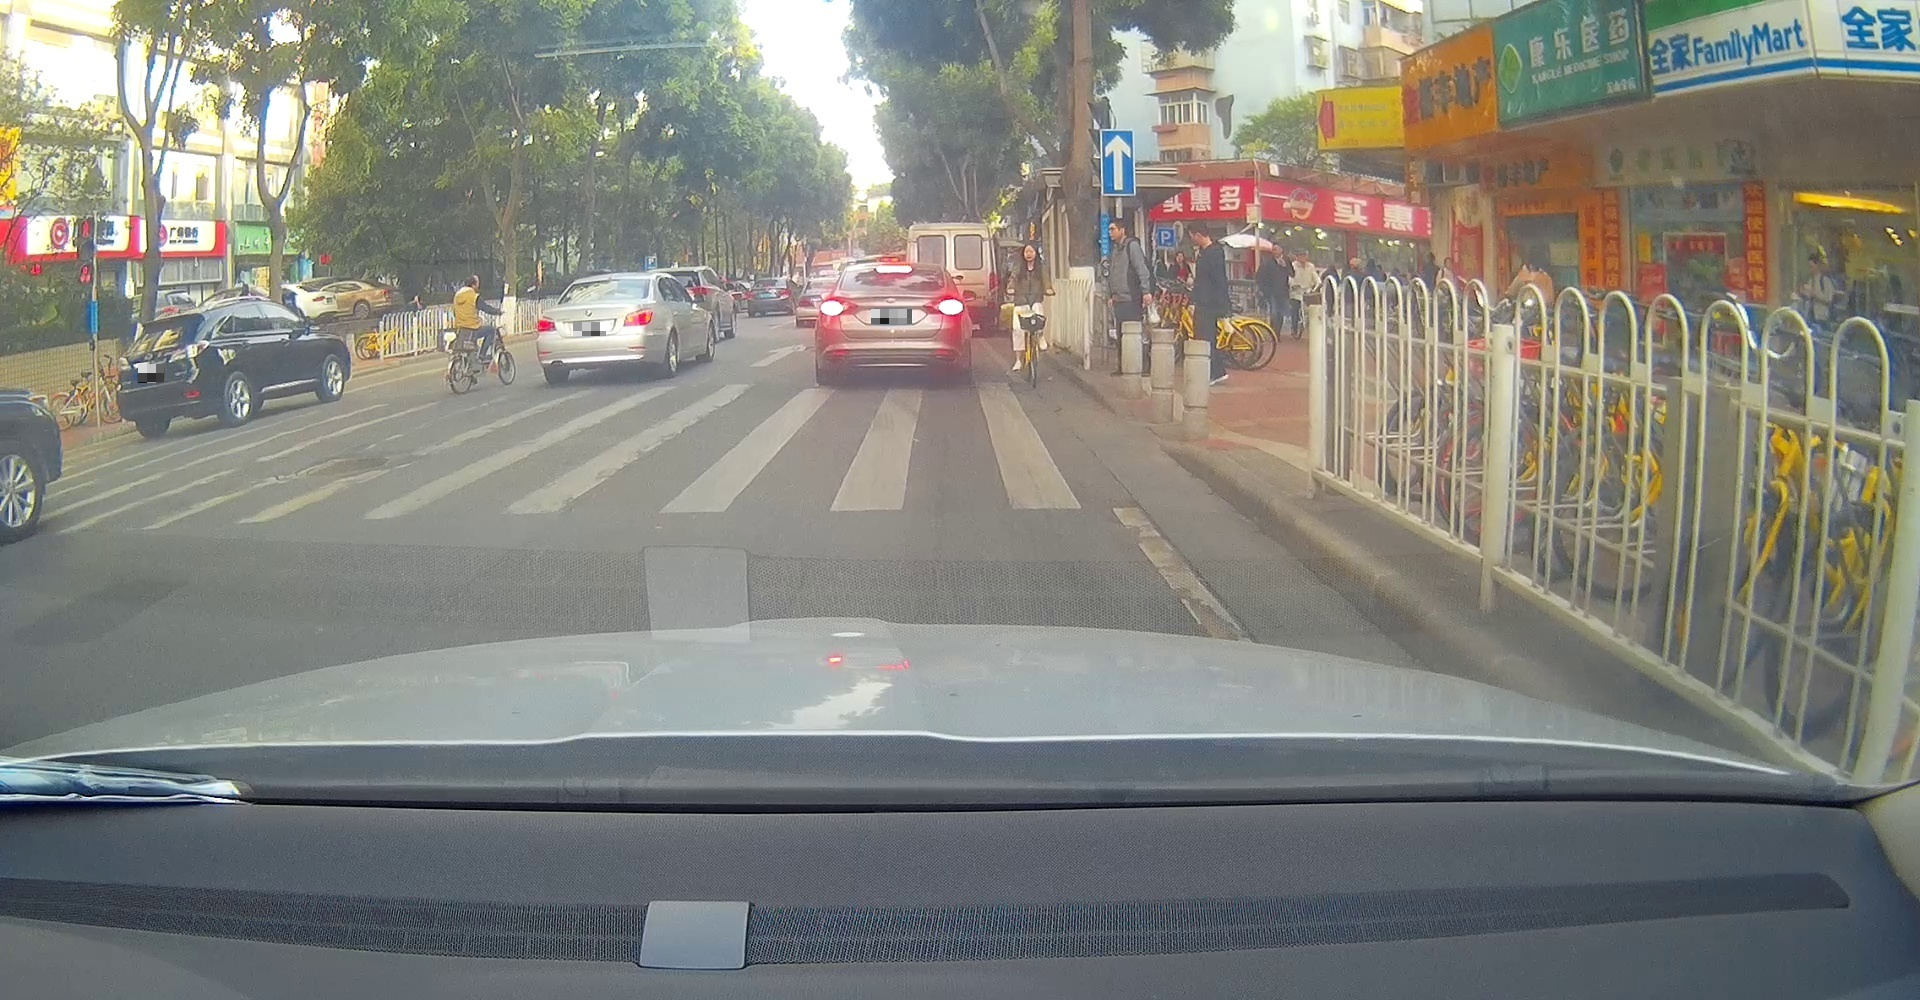L_light: (817, 298, 858, 320), (116, 357, 135, 374), (535, 319, 557, 332), (745, 292, 757, 301)
R_light: (923, 294, 964, 317), (622, 306, 653, 326), (185, 339, 210, 359), (778, 291, 791, 299)
T_light: (875, 263, 913, 274), (596, 280, 615, 286), (157, 324, 177, 327), (764, 279, 775, 283)
day-brake: (815, 261, 966, 387)
day-no: (535, 272, 658, 386), (116, 312, 215, 439), (745, 277, 794, 319)
plate_1: (138, 364, 164, 383)
plate_2: (573, 322, 606, 336)
plate_3: (871, 308, 912, 324)
